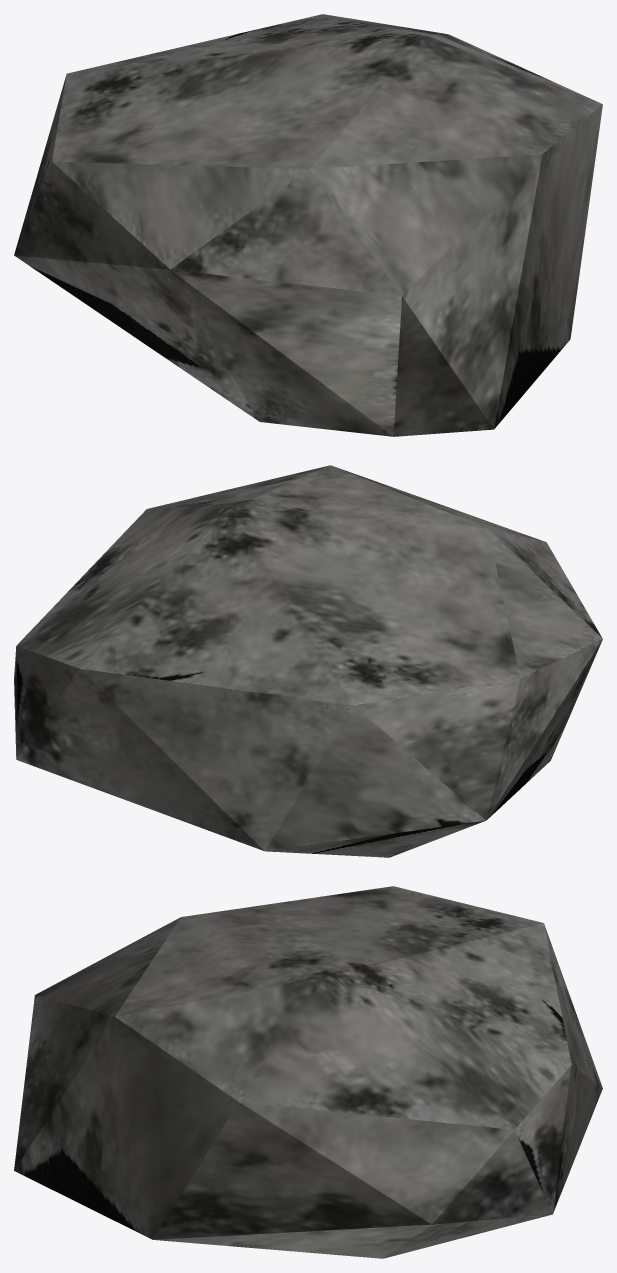
Rendered from Marble2_LOD1.FBX.
3 renders of one model, top to bottom at view 1: azimuth 30°, elevation 25°; view 2: azimuth 150°, elevation 25°; view 3: azimuth 270°, elevation 25°, orthographic. The views are drawn at different scales.
Parts seen in each view (by area): view 1: Marble004; view 2: Marble004; view 3: Marble004.
Boxes of the visible parts, <box> form: Marble004: <box>14,14,602,436</box>; Marble004: <box>14,465,602,857</box>; Marble004: <box>14,886,602,1258</box>.
Size of the model in its own units: 24.3 by 13.58 by 25.68.
Materials: 1 (1 with a texture image).
